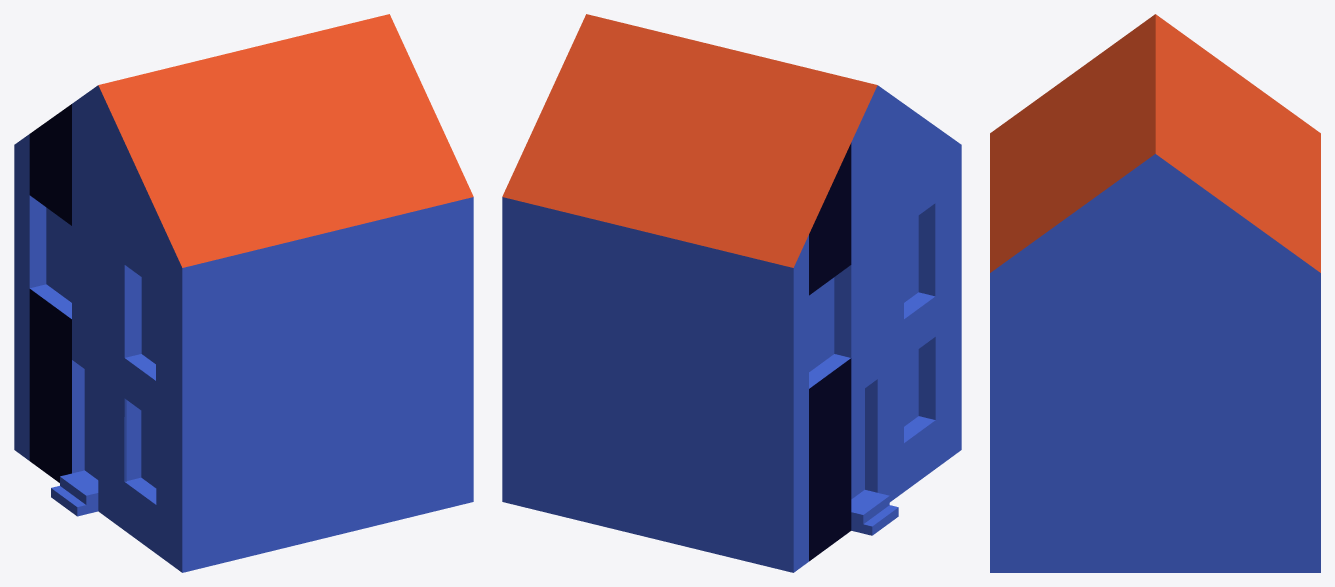
Rendered from house.gltf.
The picture shows the model from 3 angles, left to right: view 1: azimuth 30°, elevation 25°; view 2: azimuth 150°, elevation 25°; view 3: azimuth 270°, elevation 25°; orthographic projection.
Parts seen in each view (by area): view 1: Cube; view 2: Cube; view 3: Cube.
Boxes of the visible parts, x1,y1,x2,y2 form: Cube: (14, 14, 473, 572); Cube: (502, 14, 961, 572); Cube: (990, 14, 1320, 572).
Size of the model in its own units: 2.14 by 2.8 by 2.
